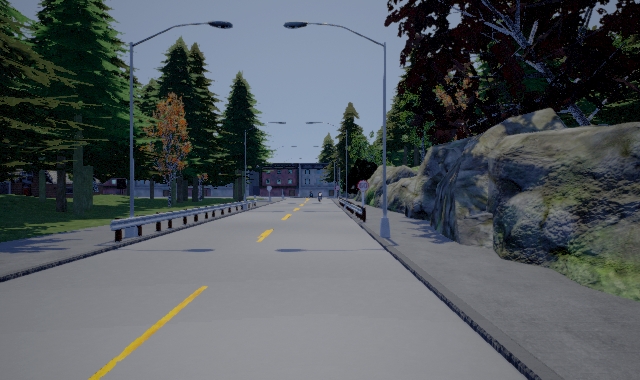traffic_sign: (357, 180, 369, 192), (334, 184, 341, 191)
